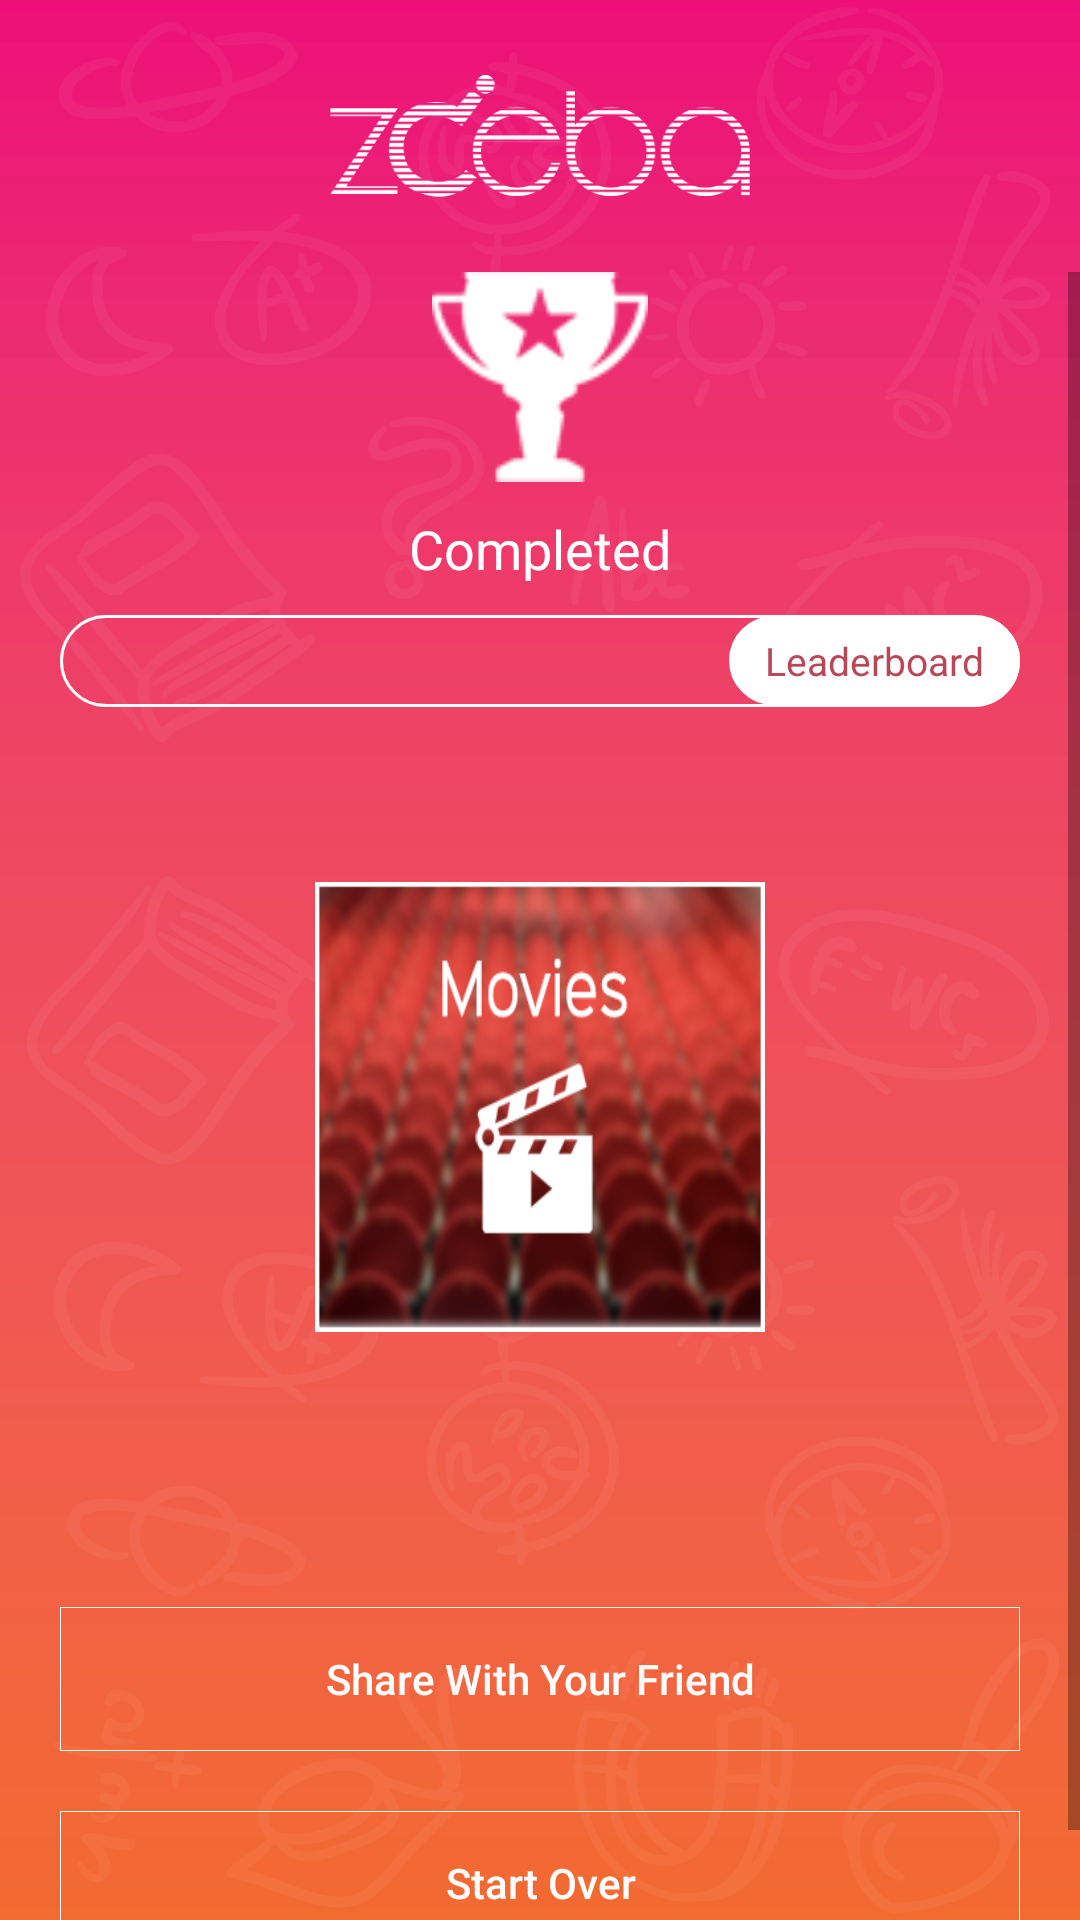

Named icons in this screenshot (1080 × 1920) and their bounding boxes, (x1, y1, x2, y2):
trophy: (432, 272, 648, 482)
